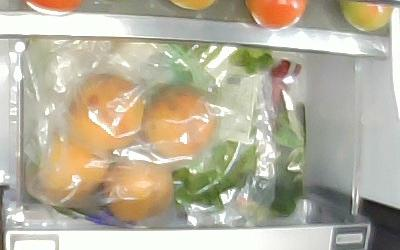peach_vinyl: (62, 74, 144, 150), (142, 85, 215, 162), (39, 134, 114, 204), (102, 150, 173, 220)
